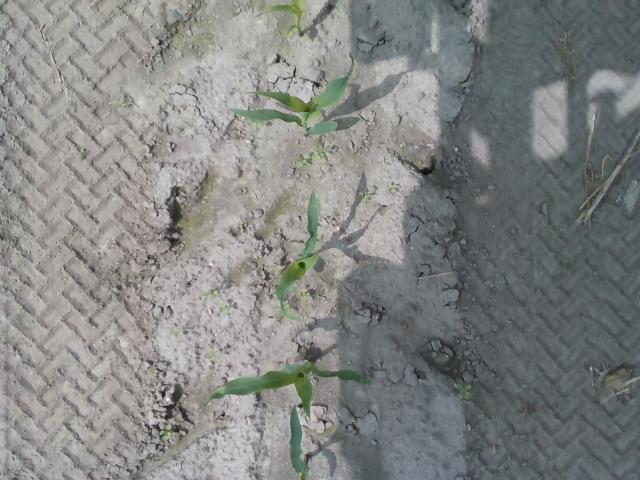Maize: (227, 52, 355, 138), (205, 360, 372, 422), (271, 190, 323, 321), (252, 1, 306, 38), (286, 405, 312, 480)
Weeds: (454, 383, 474, 401), (158, 423, 176, 441), (312, 146, 330, 161), (207, 346, 220, 362), (112, 95, 127, 108), (297, 152, 310, 167), (203, 288, 220, 299), (384, 181, 399, 193), (298, 288, 312, 300), (358, 190, 371, 202), (220, 306, 230, 317)
